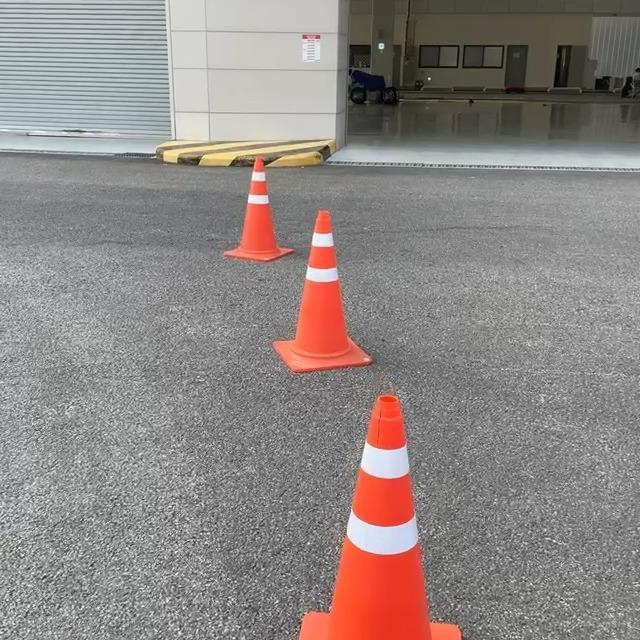fallen_object: (317, 341, 490, 640), (271, 174, 385, 391), (195, 132, 292, 258)
